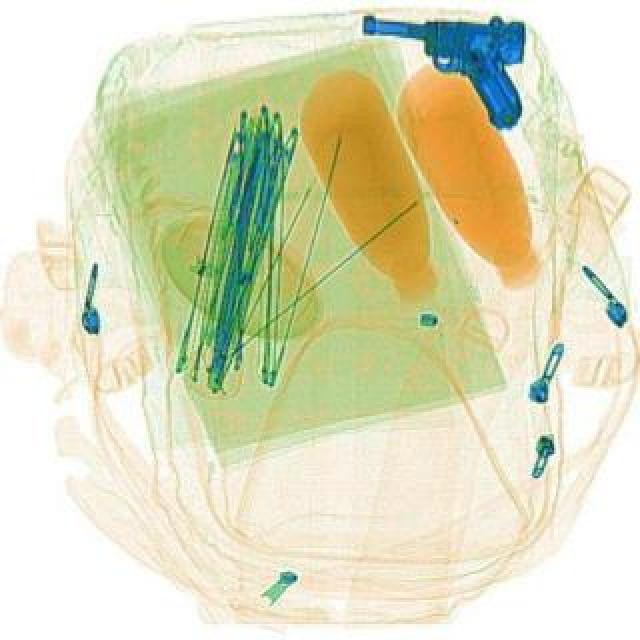gun: (356, 12, 524, 128)
